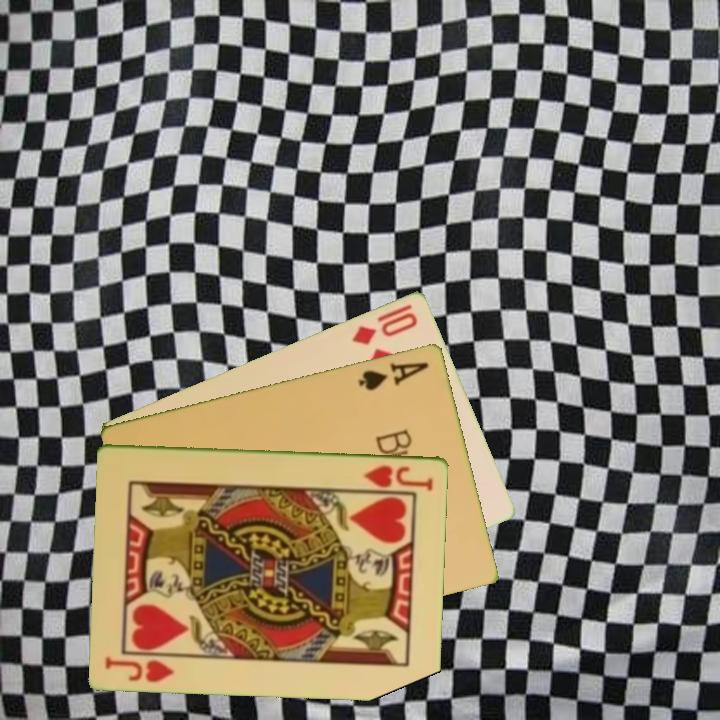10d: (348, 308, 421, 348)
As: (355, 358, 432, 393)
Jh: (102, 653, 178, 685), (361, 461, 436, 493)
